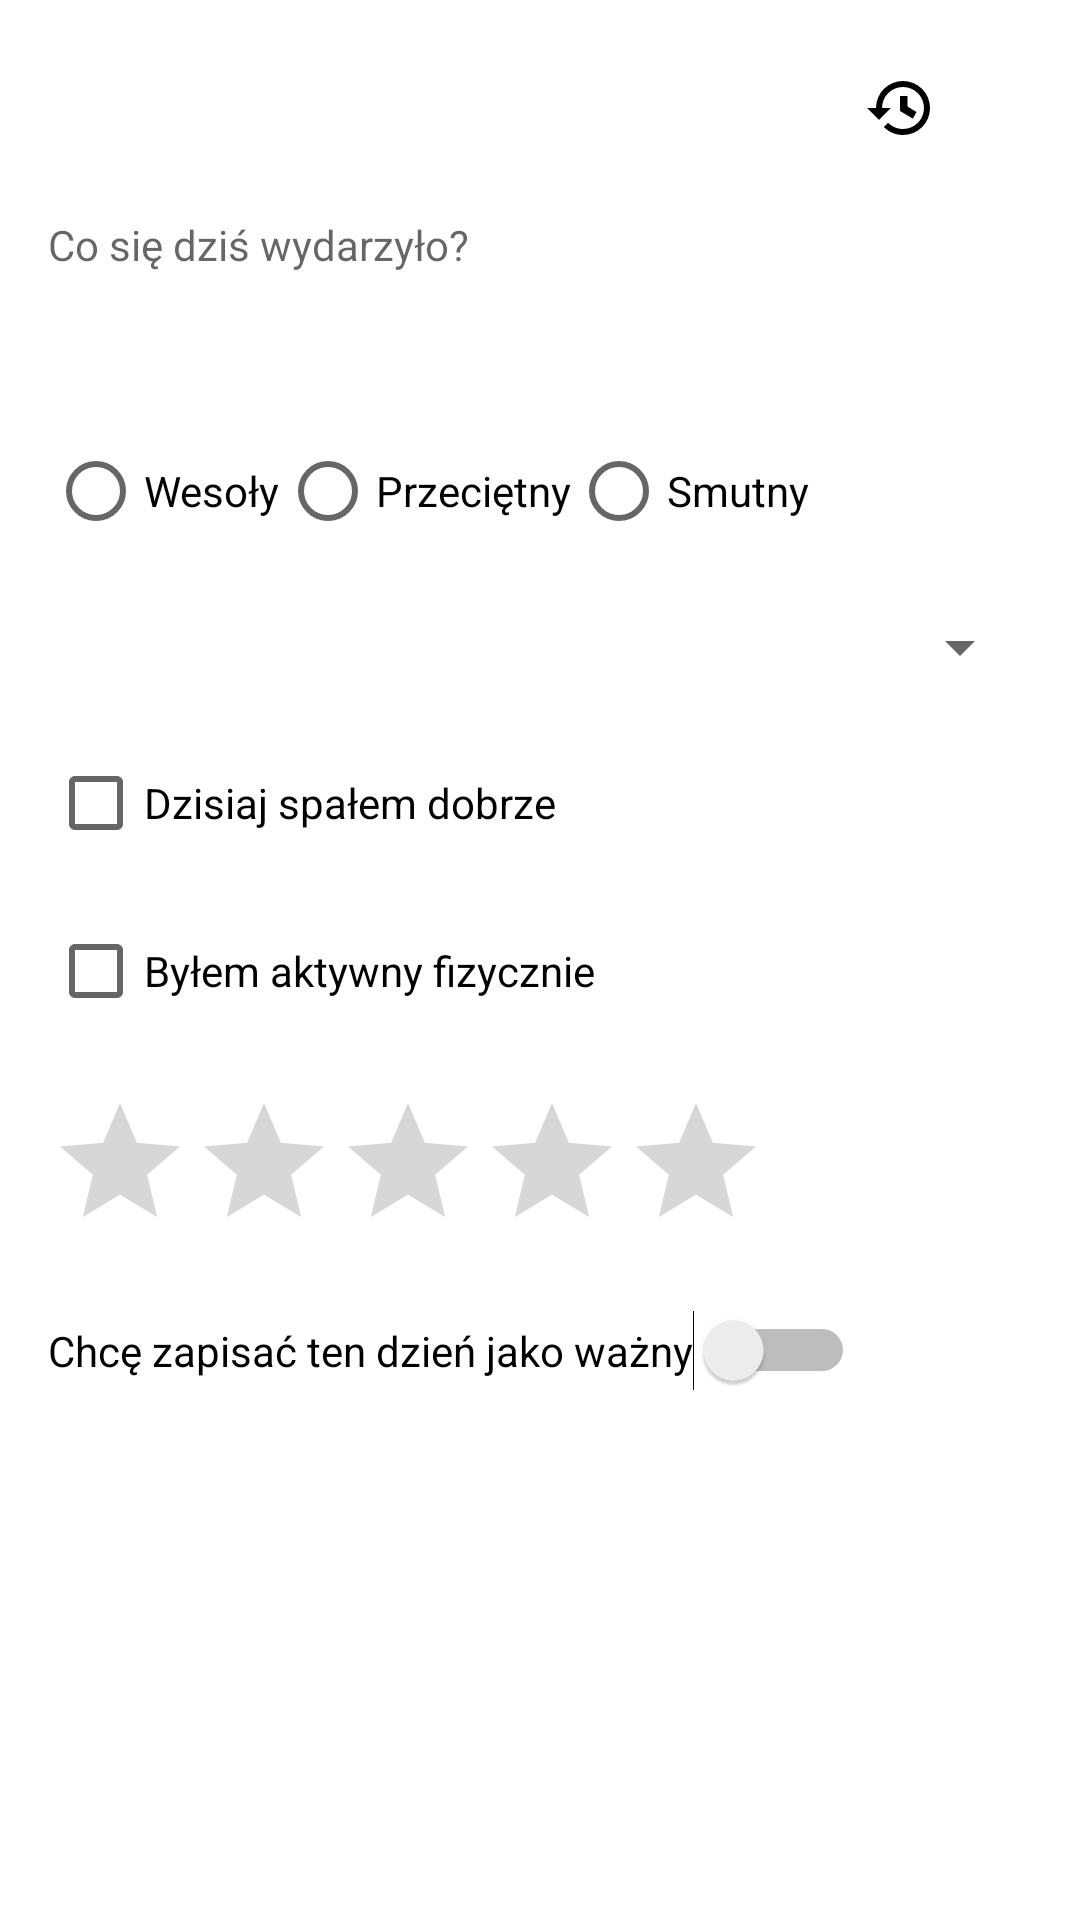

Icon bounding boxes for this 1080 × 1920 phone screenshot, format BBox(x1, y1, x2, y2):
Historia: BBox(867, 81, 930, 135)
